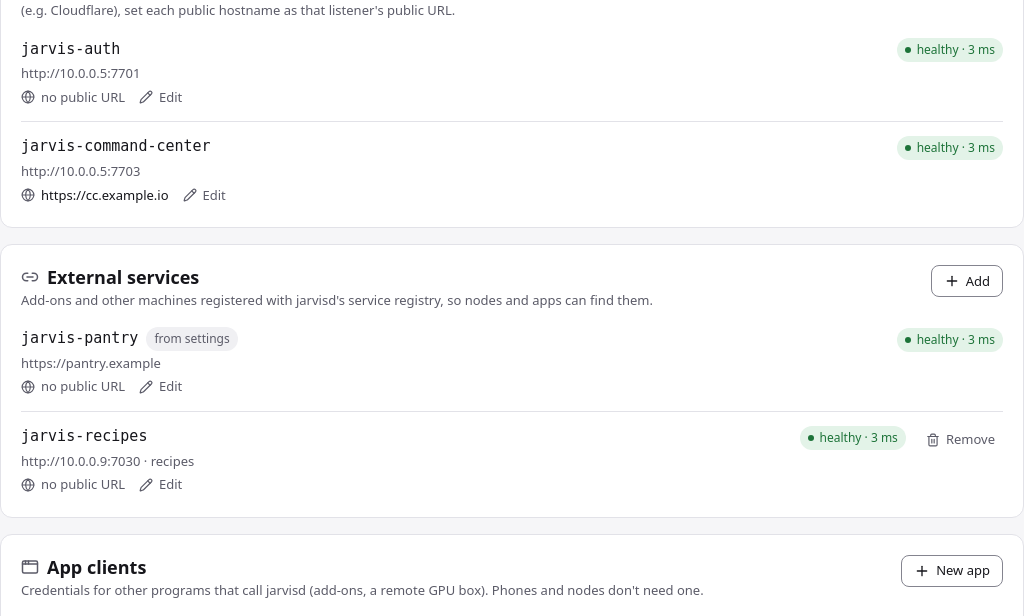
Test: ConnectionsPage (AD7) › shows a new app key once, in a modal, and forgets it on close
Click the button "New app".
click(952, 571)  # box x1=901 y1=555 x2=1003 y2=587
(page scrolled)
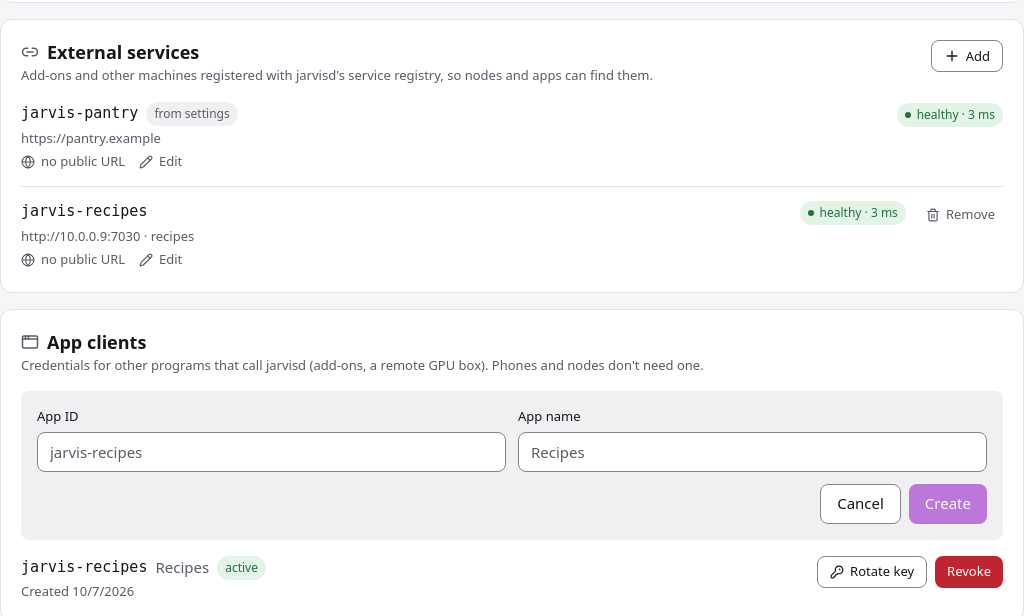
Type "satellite" into the field labelled "App ID".
click(272, 452); type("satellite")  # box x1=37 y1=432 x2=506 y2=472
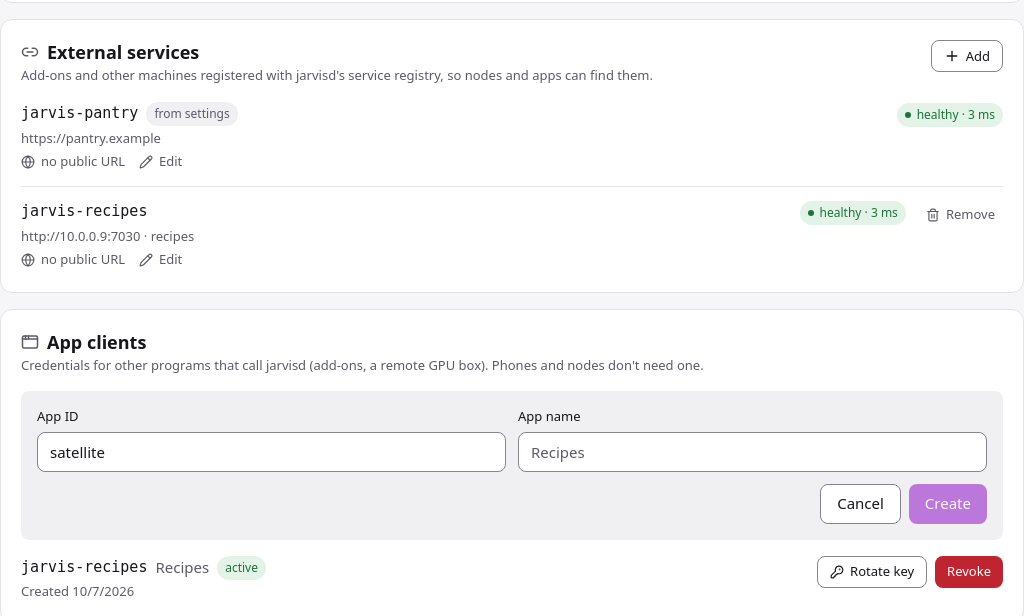
Type "GPU box" into the field labelled "App name".
click(752, 452); type("GPU box")  # box x1=518 y1=432 x2=987 y2=472
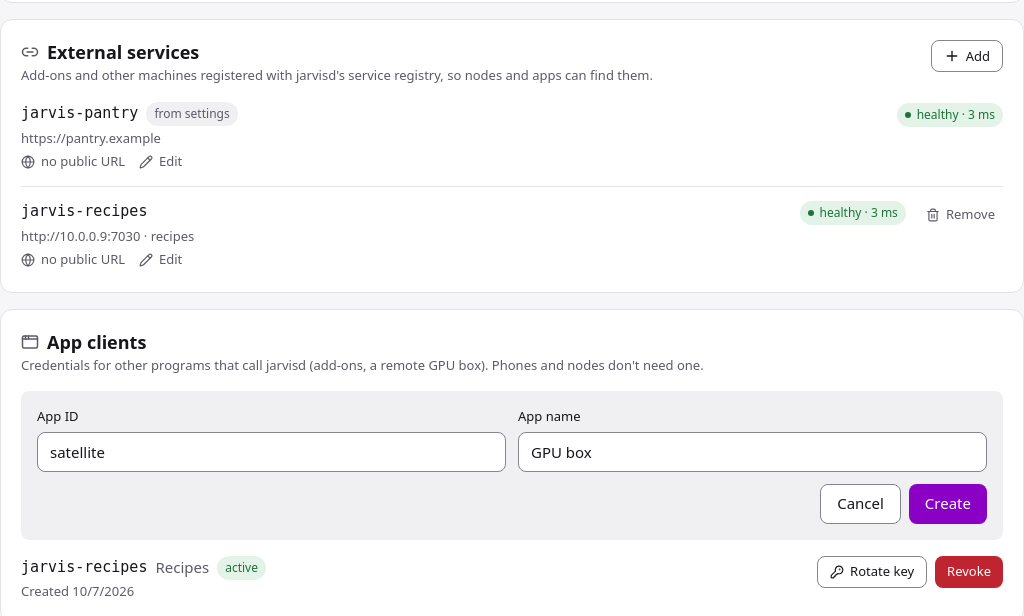
Click the button "Create".
click(948, 504)  # box x1=909 y1=484 x2=987 y2=524
(page scrolled)
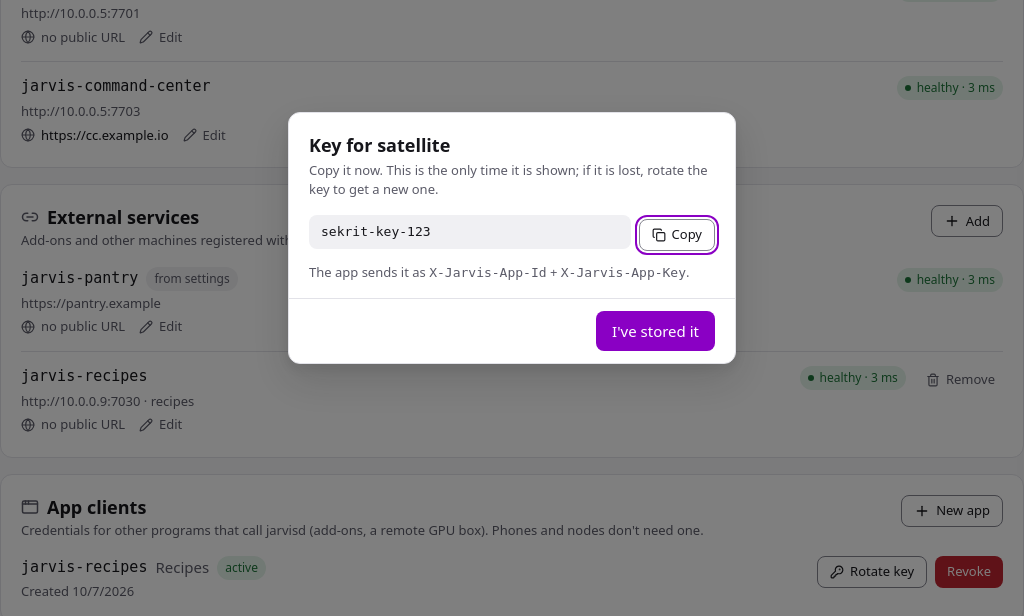
Expected: the text with test id "app-key" reads "sekrit-key-123", x1=321 y1=224 x2=431 y2=239
Expected: the text "only time it is shown" is shown, x1=309 y1=161 x2=708 y2=198
Click the button "I've stored it".
click(656, 331)  # box x1=596 y1=311 x2=715 y2=351
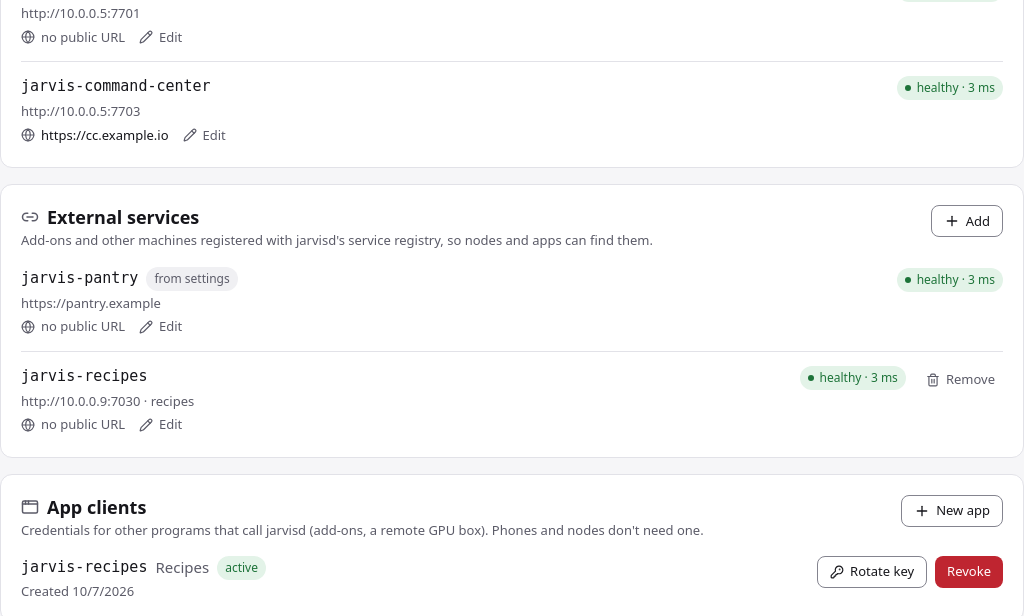
Expected: the dialog is gone
Expected: the text "sekrit-key-123" is gone
